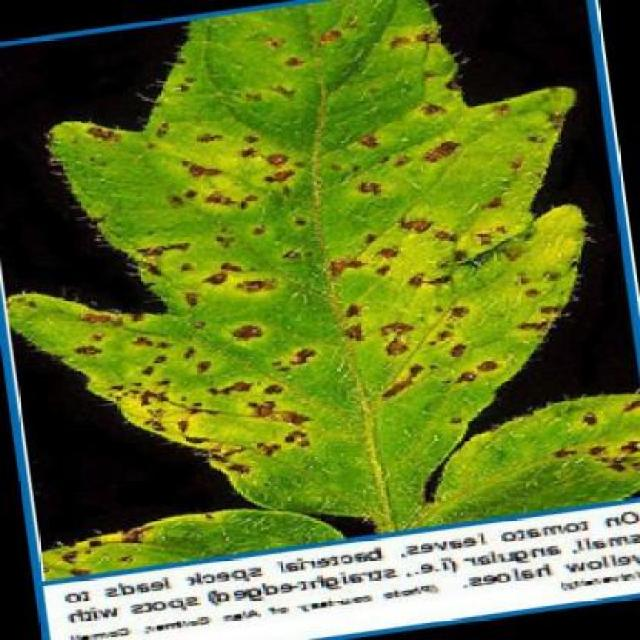Tomato leaf bacterial spot: (24, 0, 630, 514)
